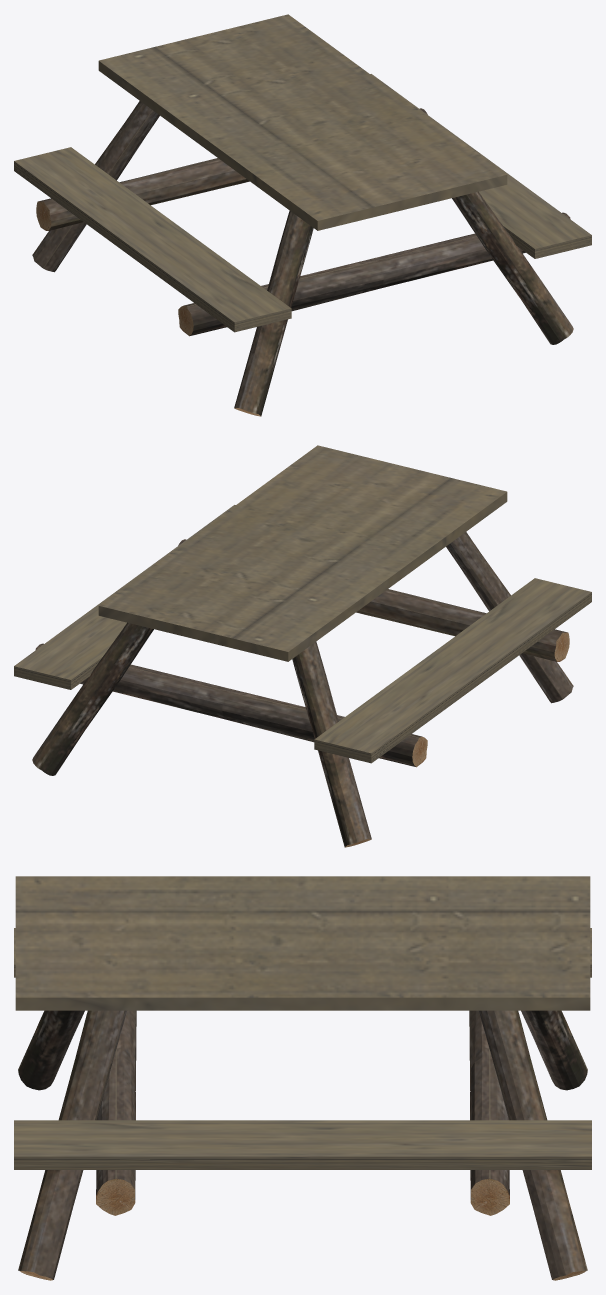
The model's file is Table.glb.
3 views of the same model, one above another, from view 1: azimuth 30°, elevation 25°; view 2: azimuth 150°, elevation 25°; view 3: azimuth 270°, elevation 25° (orthographic). The views are drawn at different scales.
Visible parts, largest first — view 1: Table, Seat, Legs, Support; view 2: Table, Seat, Legs, Support; view 3: Table, Seat, Legs, Support.
Boxes of the visible parts, box(x1,y1,x2,y2) form: Table: box(98, 14, 507, 230); Seat: box(14, 74, 591, 332); Legs: box(32, 101, 573, 416); Support: box(36, 108, 570, 336); Table: box(98, 445, 507, 661); Seat: box(14, 505, 591, 763); Legs: box(32, 532, 573, 847); Support: box(35, 539, 569, 767); Table: box(15, 876, 590, 1010); Seat: box(14, 928, 591, 1169); Legs: box(18, 1010, 587, 1280); Support: box(96, 1010, 509, 1215).
Size of the model in its own units: 2.01 by 0.9508 by 2.01.
Materials: 1 (1 with a texture image).
